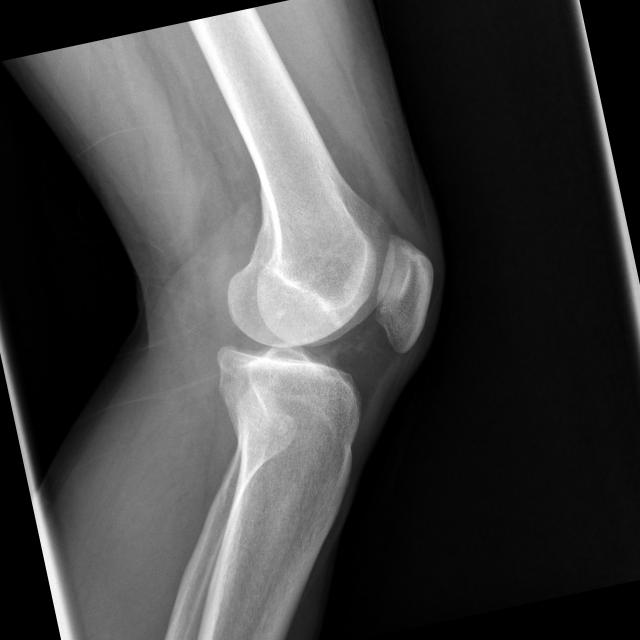Knee: (176, 167, 463, 447)
